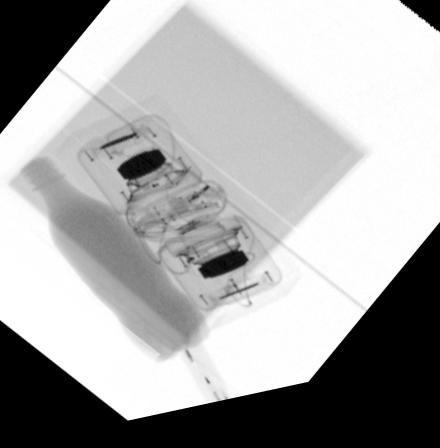Lighter: (177, 350, 234, 413)
